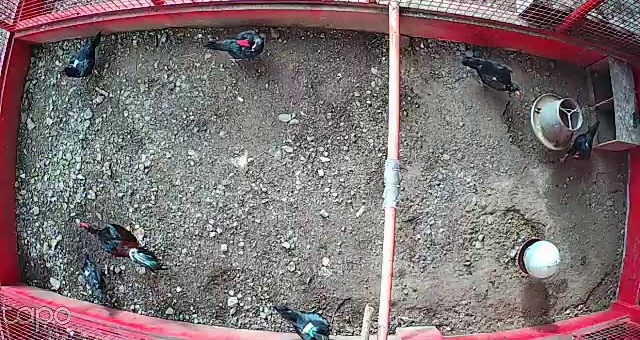Chicken: (270, 289, 336, 340), (462, 51, 524, 99), (202, 28, 271, 70), (555, 120, 607, 168), (74, 249, 115, 307), (62, 30, 107, 82)
Rooster: (76, 217, 166, 275)
Saddle_Color_Red: (238, 38, 251, 46)
Saddle_Color_White: (72, 59, 81, 67)
Saddle_Color_Yellow: (85, 270, 91, 277)
Saddle_Color_YellowGreen: (303, 321, 318, 339)
